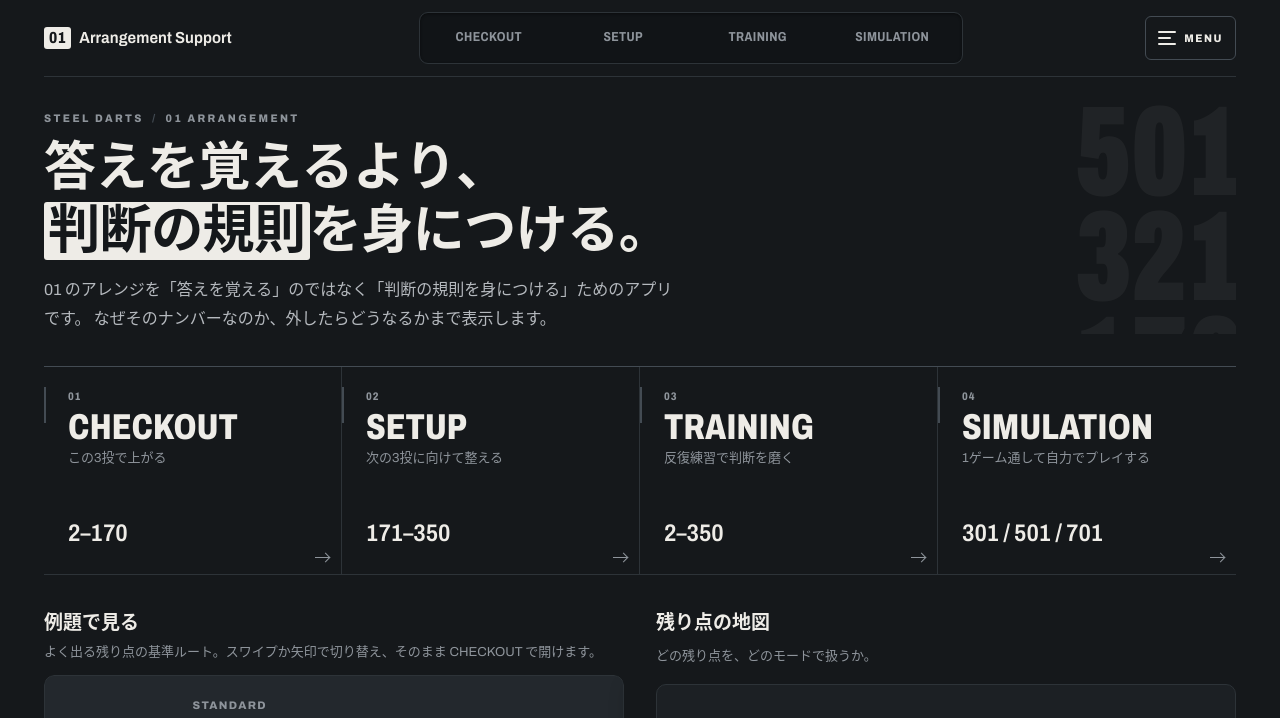
Scenario: SIMULATION の導線 › 301 / 501 / 701 / CUSTOM を選べる
Click the button with test id "nav-simulation": {"x": 892, "y": 38} [826,16,958,60]
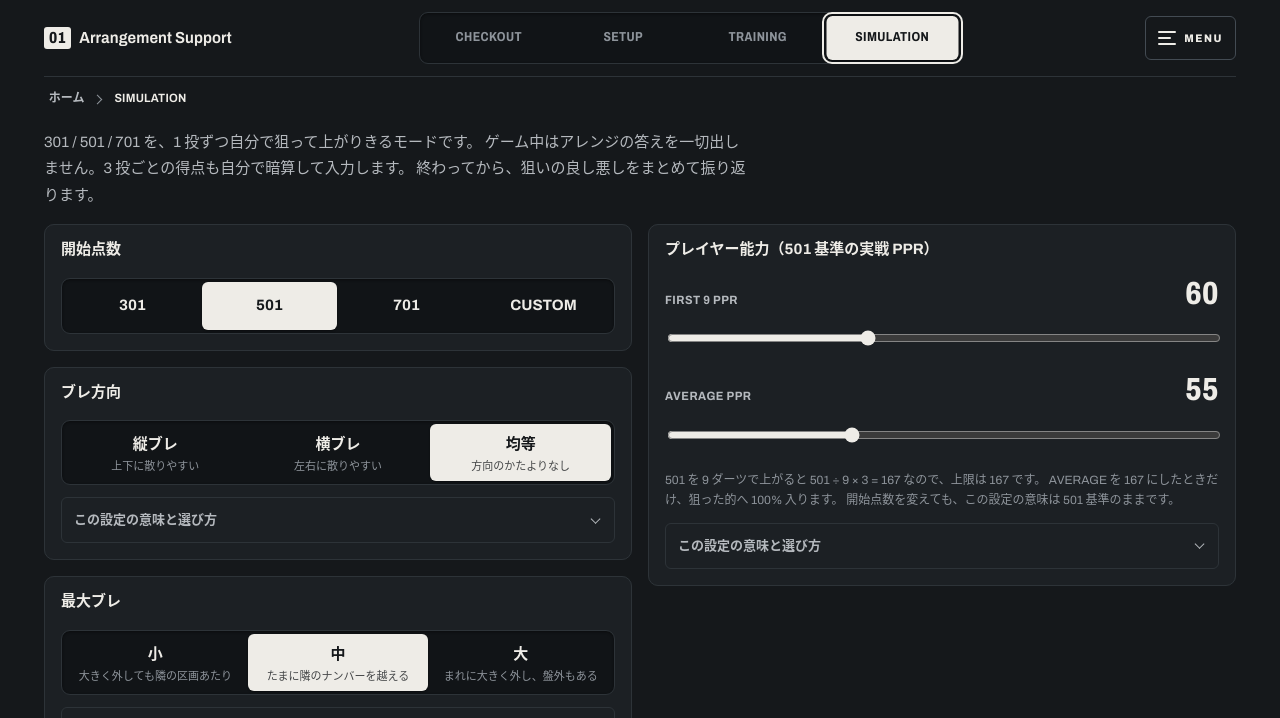
Click the button "301": {"x": 132, "y": 306} [65,282,200,330]
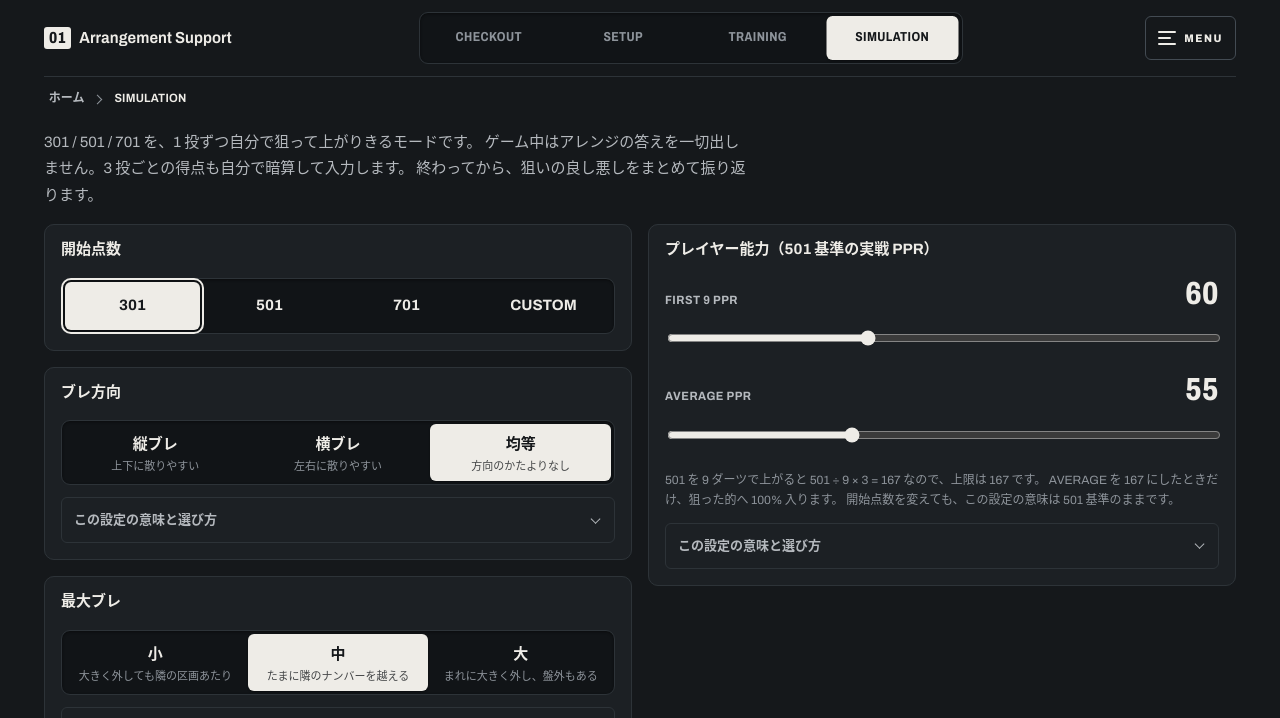
Click the button "501": {"x": 270, "y": 306} [202,282,337,330]
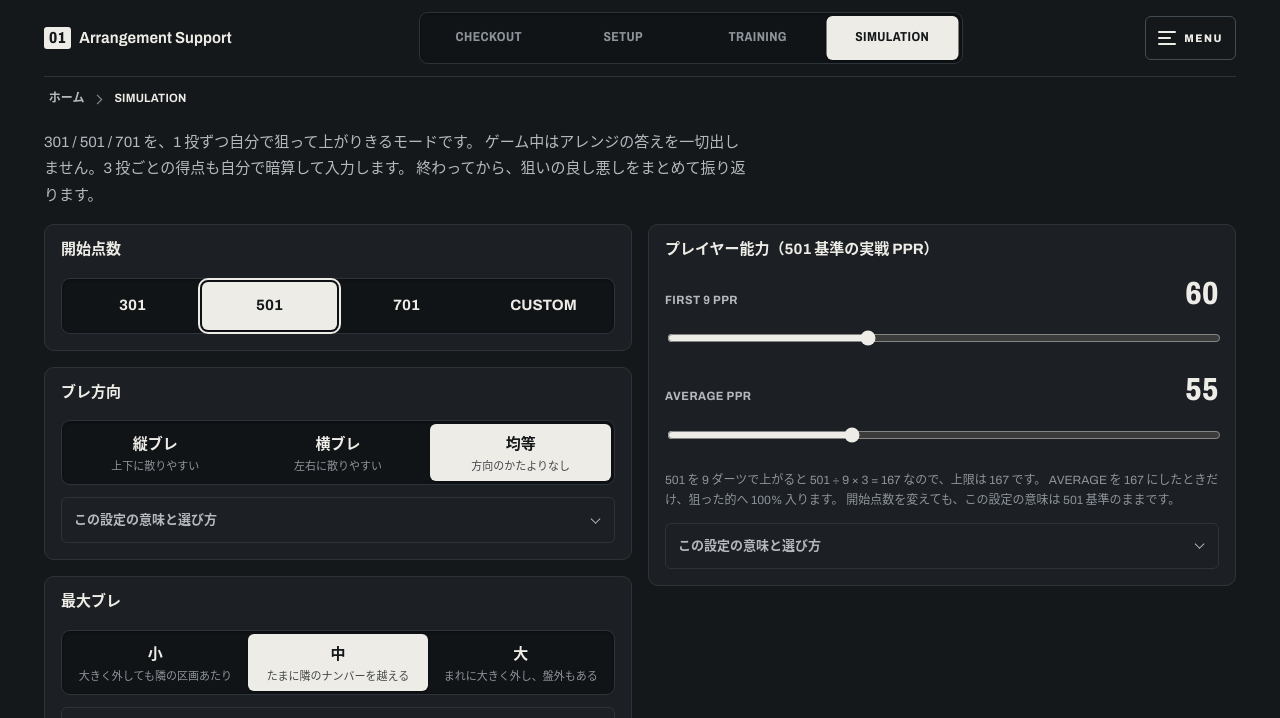
Click the button with test id "sim-start-701": {"x": 406, "y": 306} [339,282,474,330]
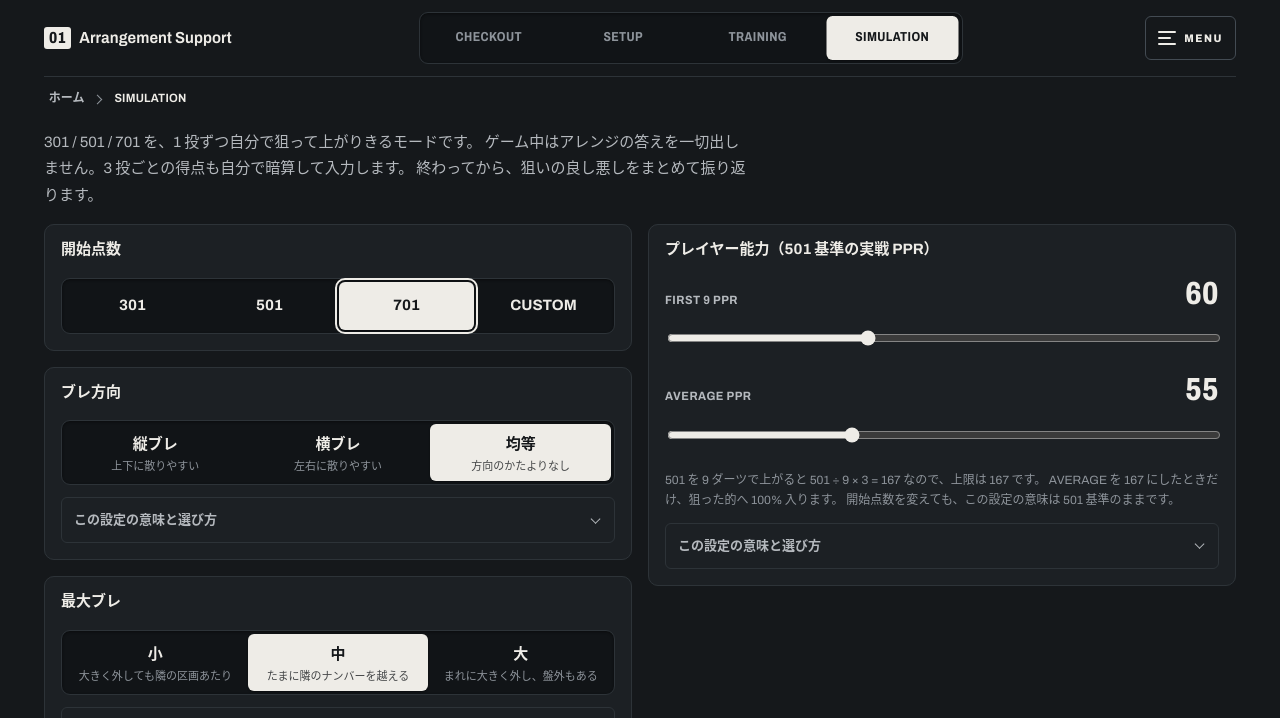
Check: the button with test id "sim-start-701" is pressed, box [339,282,474,330]
Click the button with test id "sim-start-custom": {"x": 544, "y": 306} [476,282,611,330]
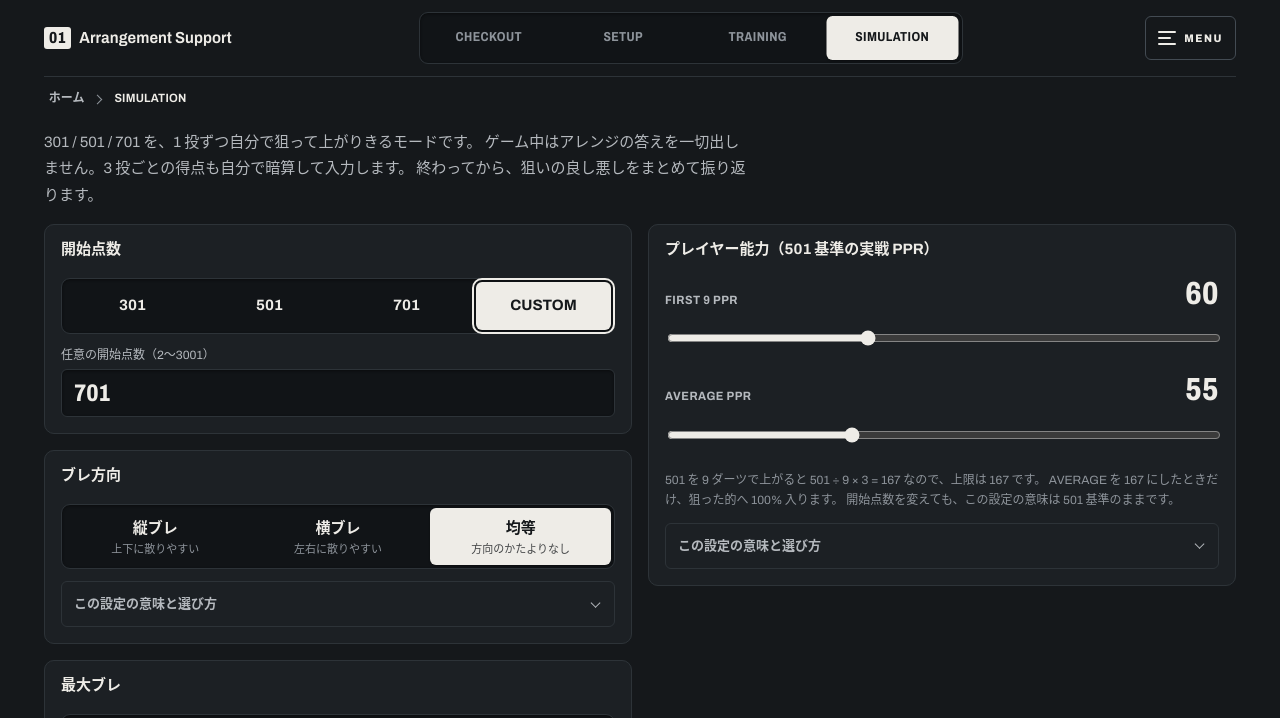
Replace the text in the field with test id "sim-start-custom-input" with "407": {"x": 338, "y": 393} [61,369,615,417]
(page scrolled)
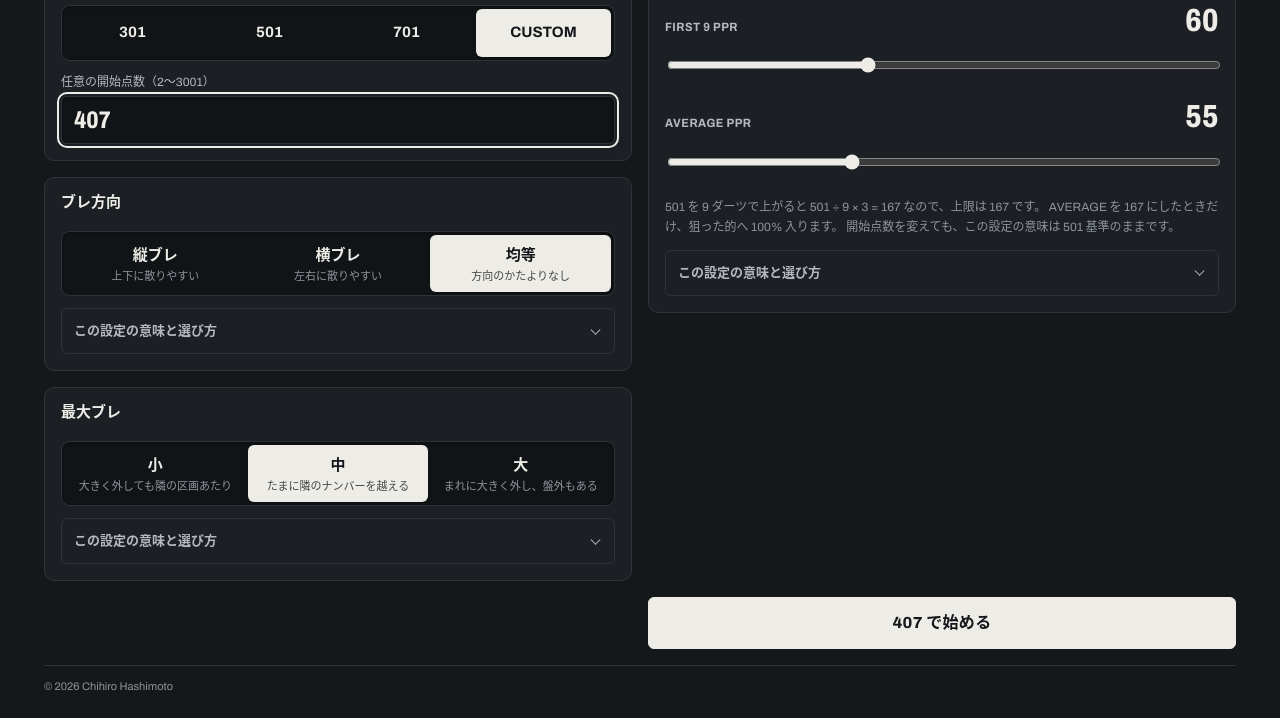
Check: the button with test id "start-simulation" reads "407 で始める", box [648,597,1236,649]
